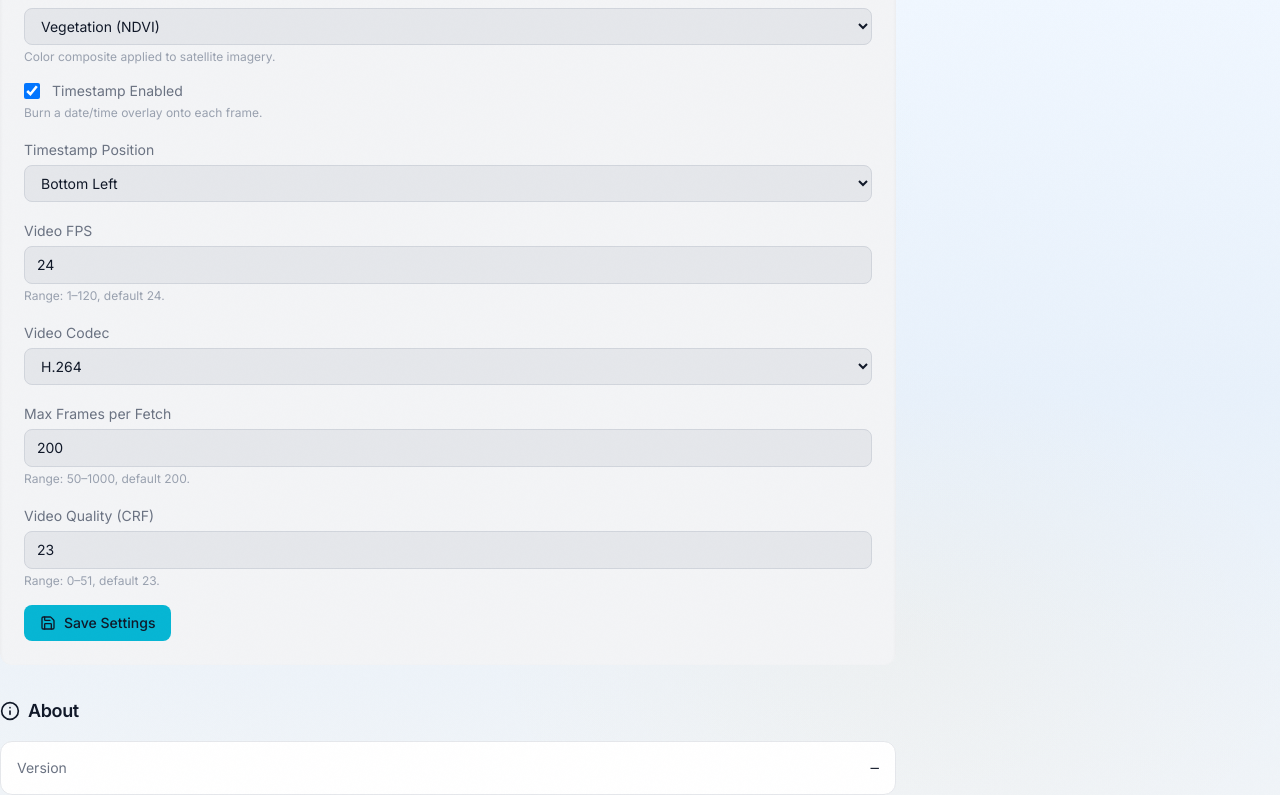
Test case: Settings - form interactions › shows error toast on save failure
(page scrolled)
Click the button "Save Settings" at (98, 623), box [24,605,171,641]
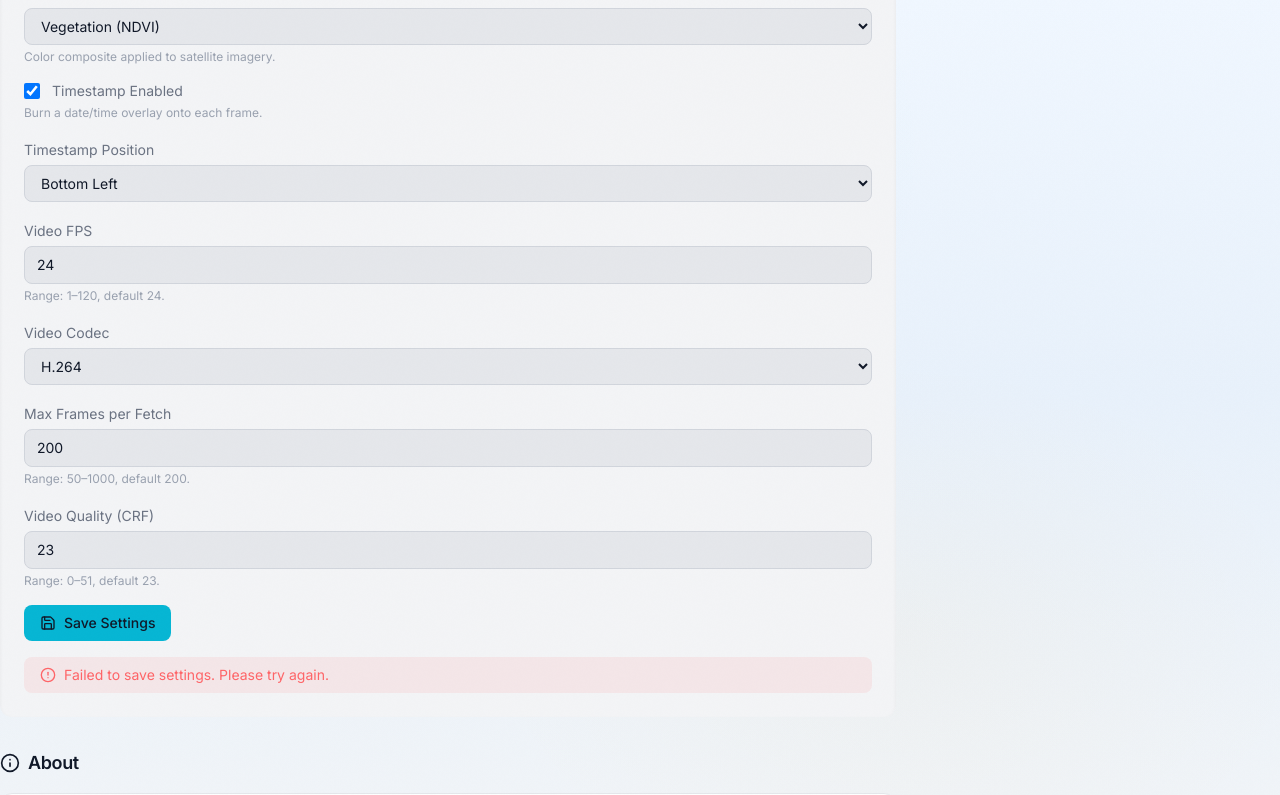
Expected: the text "Failed to save settings. Please try again." is shown, [24,657,872,693]
